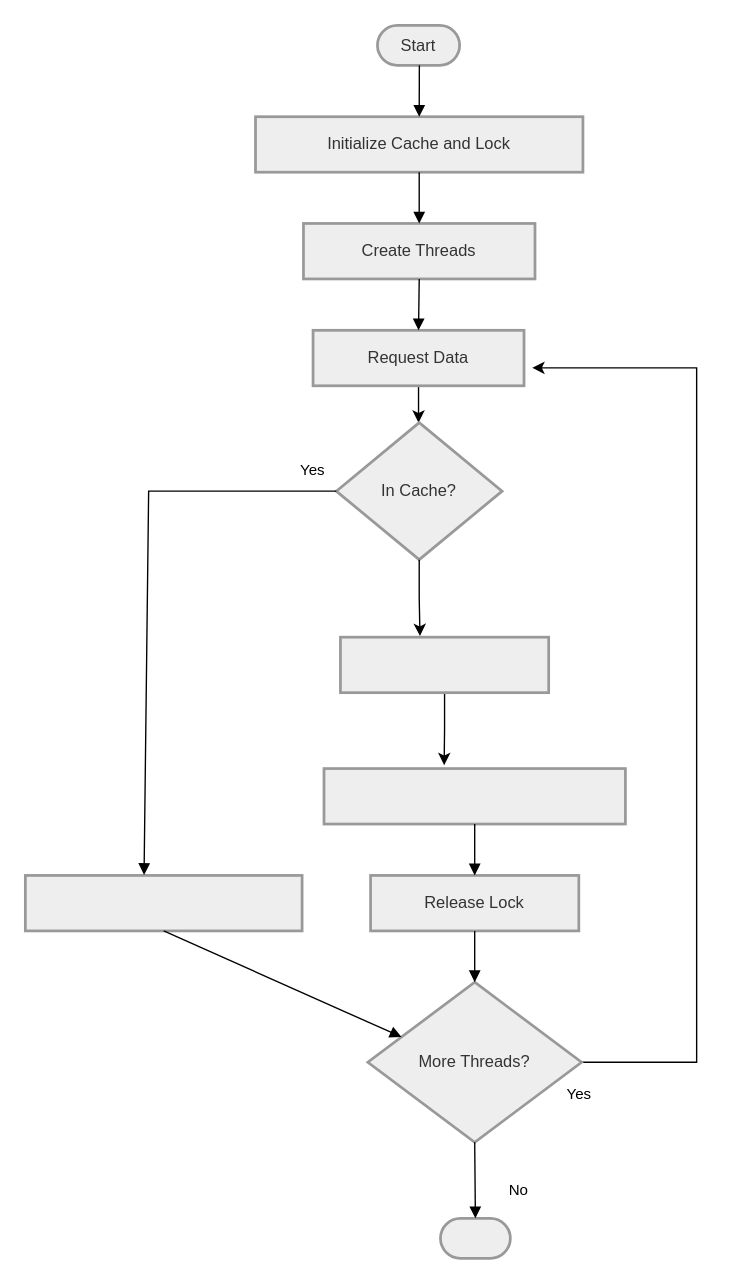
Image size: 732x1282. Some labels were removed from this diagram. The shapes that lost their labels are listed below. From the top down, each one's box as (x1, y1, x2, y2) in pixels, then its label:
(338, 635, 549, 693): Acquire Lock
(322, 767, 626, 825): Compute & Store Data
(23, 873, 303, 932): Return Cached Data
(438, 1216, 511, 1259): End
